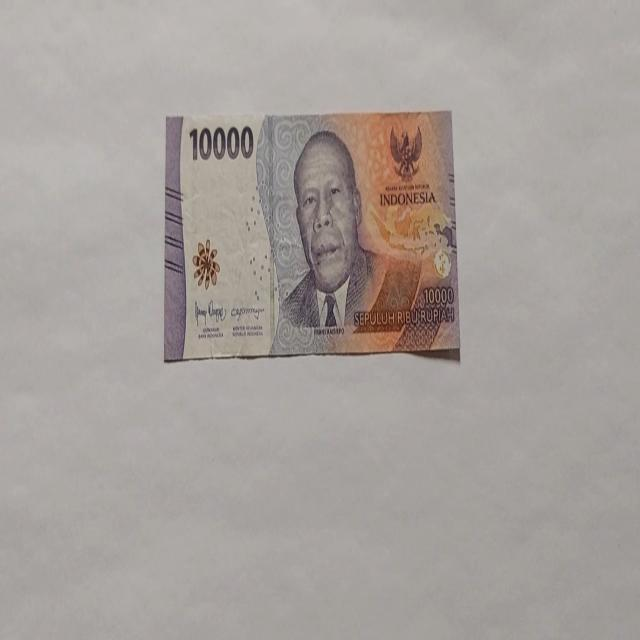sepuluh ribu rupiah: (163, 109, 461, 362)
